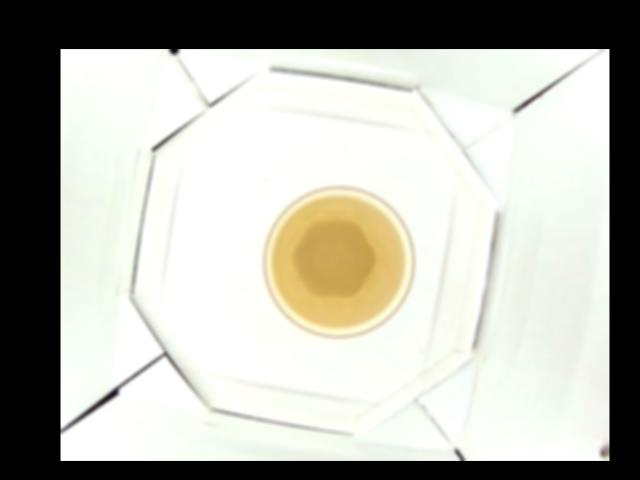Cup: (262, 185, 416, 336)
